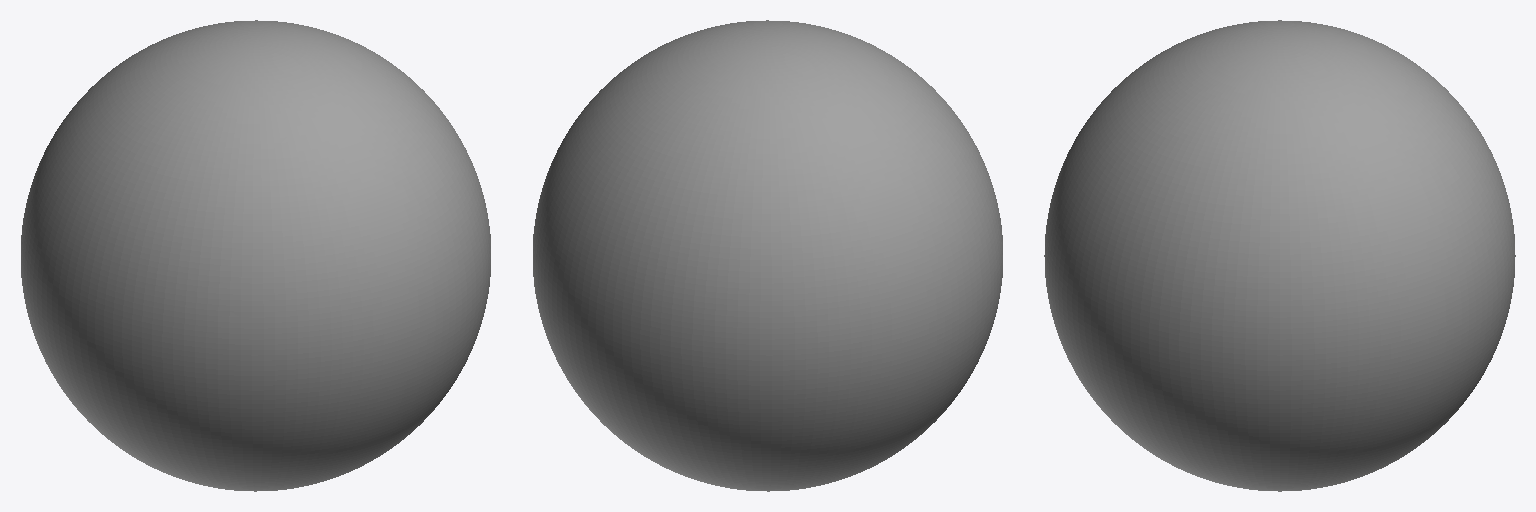
Rendered from Sol2.obj.
3 renders of one model, left to right at view 1: azimuth 30°, elevation 25°; view 2: azimuth 150°, elevation 25°; view 3: azimuth 270°, elevation 25°, orthographic.
Visible parts, largest first — view 1: Moon_Sphere.001; view 2: Moon_Sphere.001; view 3: Moon_Sphere.001.
Part boxes in pixels (x1,y1,x2,y2): Moon_Sphere.001: (21, 20, 490, 491); Moon_Sphere.001: (533, 20, 1002, 491); Moon_Sphere.001: (1044, 20, 1515, 491).
Bounding box in the file's own units: 2 × 2 × 2.